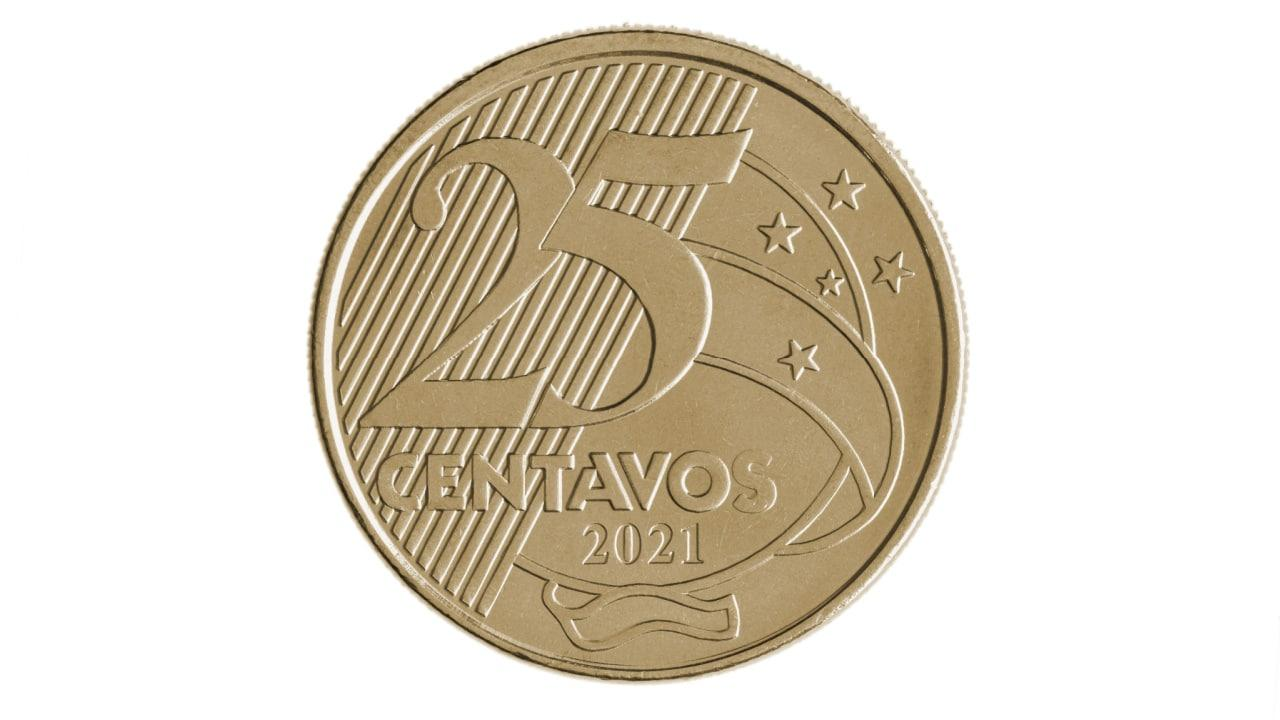25 cent: (299, 7, 992, 706)
